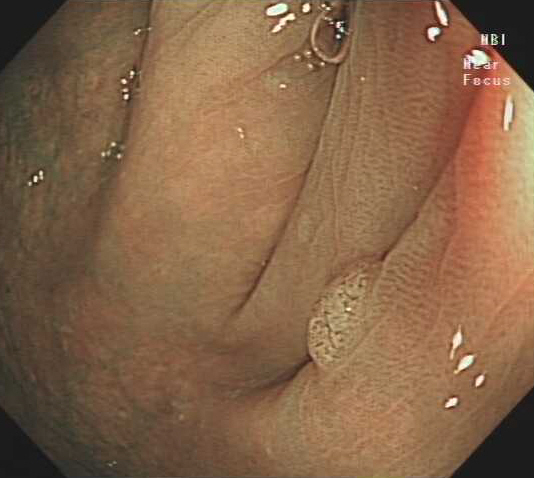adenoma: (304, 251, 386, 370)
